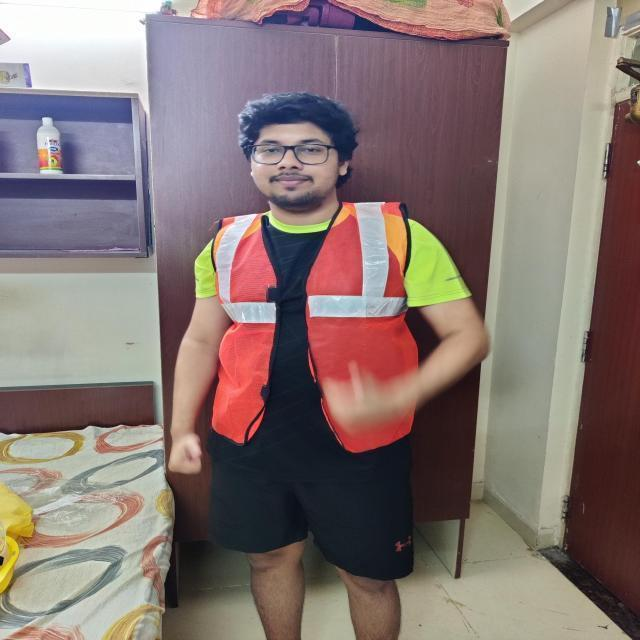no-helmet: (236, 82, 362, 164)
vest: (214, 196, 422, 454)
